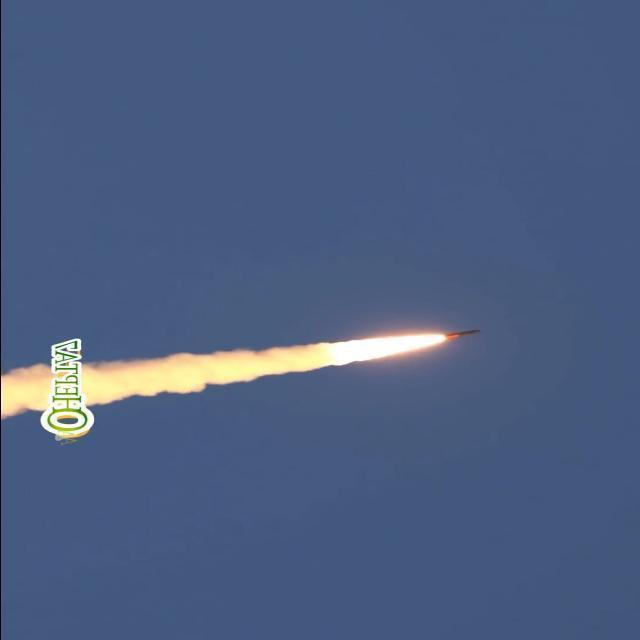missile: (442, 323, 484, 346)
